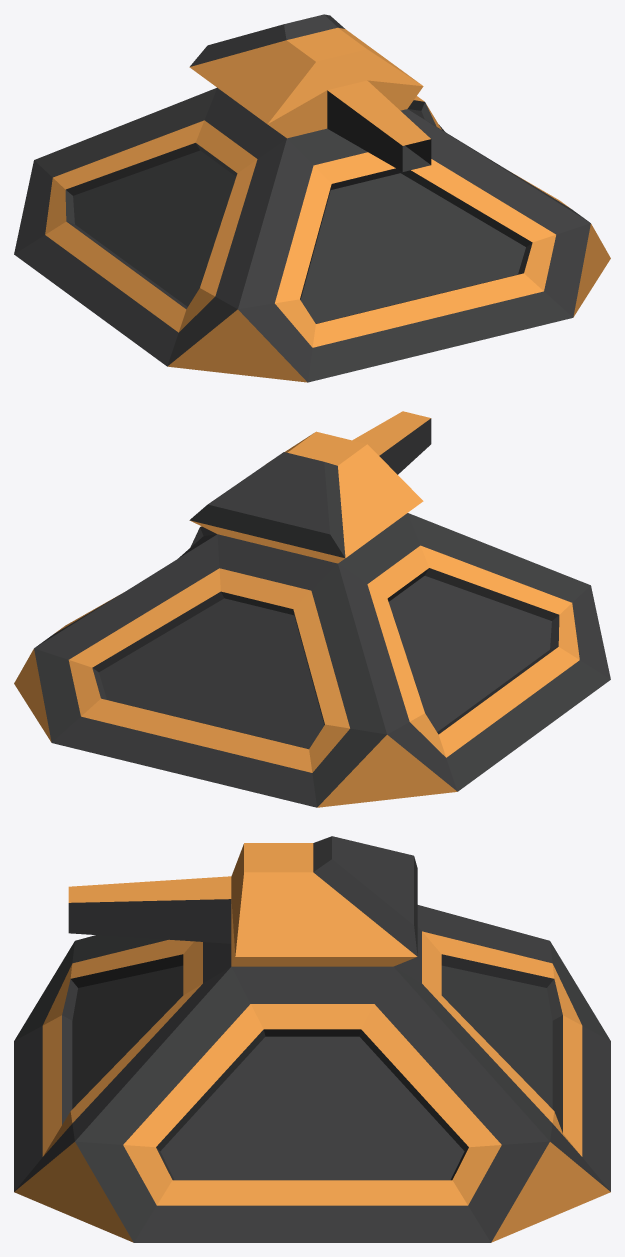
The model's file is EnemyBot.fbx.
3 views of the same model, one above another, from view 1: azimuth 30°, elevation 25°; view 2: azimuth 150°, elevation 25°; view 3: azimuth 270°, elevation 25° (orthographic). The views are drawn at different scales.
Visible parts, largest first — view 1: EnemyBot; view 2: EnemyBot; view 3: EnemyBot.
Part boxes in pixels (x1,y1,x2,y2): EnemyBot: [14, 14, 610, 382]; EnemyBot: [14, 411, 610, 807]; EnemyBot: [14, 836, 610, 1242].
Size of the model in its own units: 200 by 99.48 by 200.
